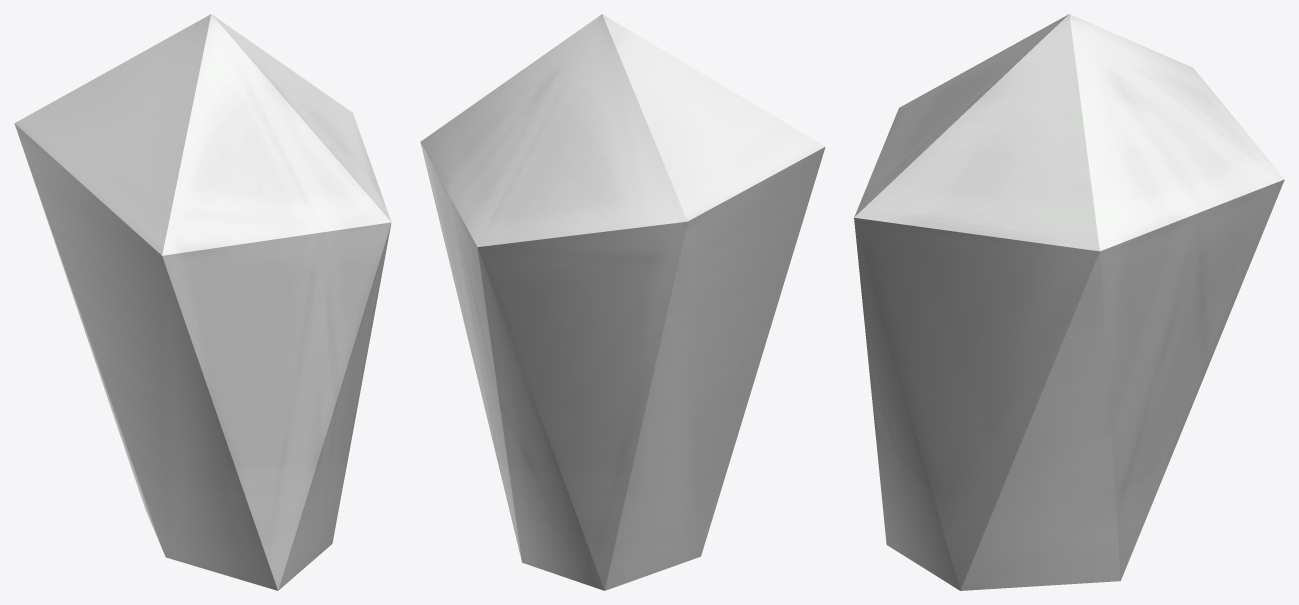
The model's file is Quartz.fbx.
The picture shows the model from 3 angles, left to right: view 1: azimuth 30°, elevation 25°; view 2: azimuth 150°, elevation 25°; view 3: azimuth 270°, elevation 25°; orthographic projection. The views are drawn at different scales.
Visible parts, largest first — view 1: Rock; view 2: Rock; view 3: Rock.
Boxes of the visible parts, x1=… form: Rock: x1=14, y1=14, x2=391, y2=590; Rock: x1=420, y1=14, x2=825, y2=590; Rock: x1=854, y1=14, x2=1284, y2=590.
Bounding box in the file's own units: 0.4886 × 0.8071 × 0.5828.
